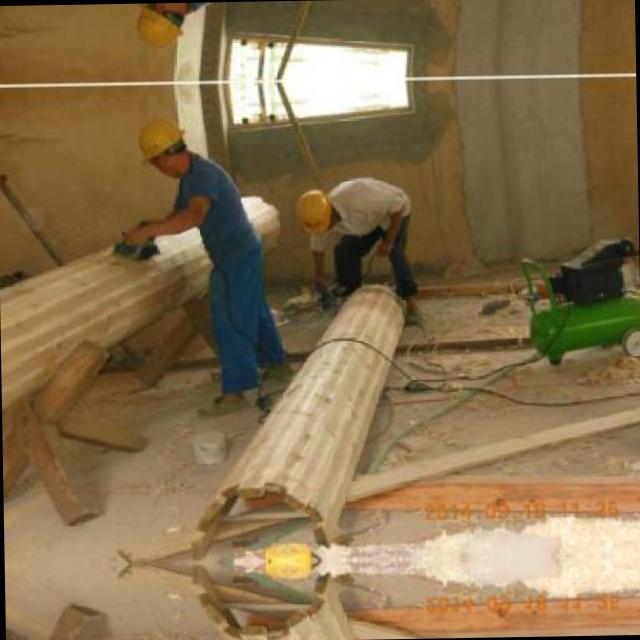helmet: (131, 112, 195, 178), (128, 2, 194, 51), (288, 185, 344, 238)
